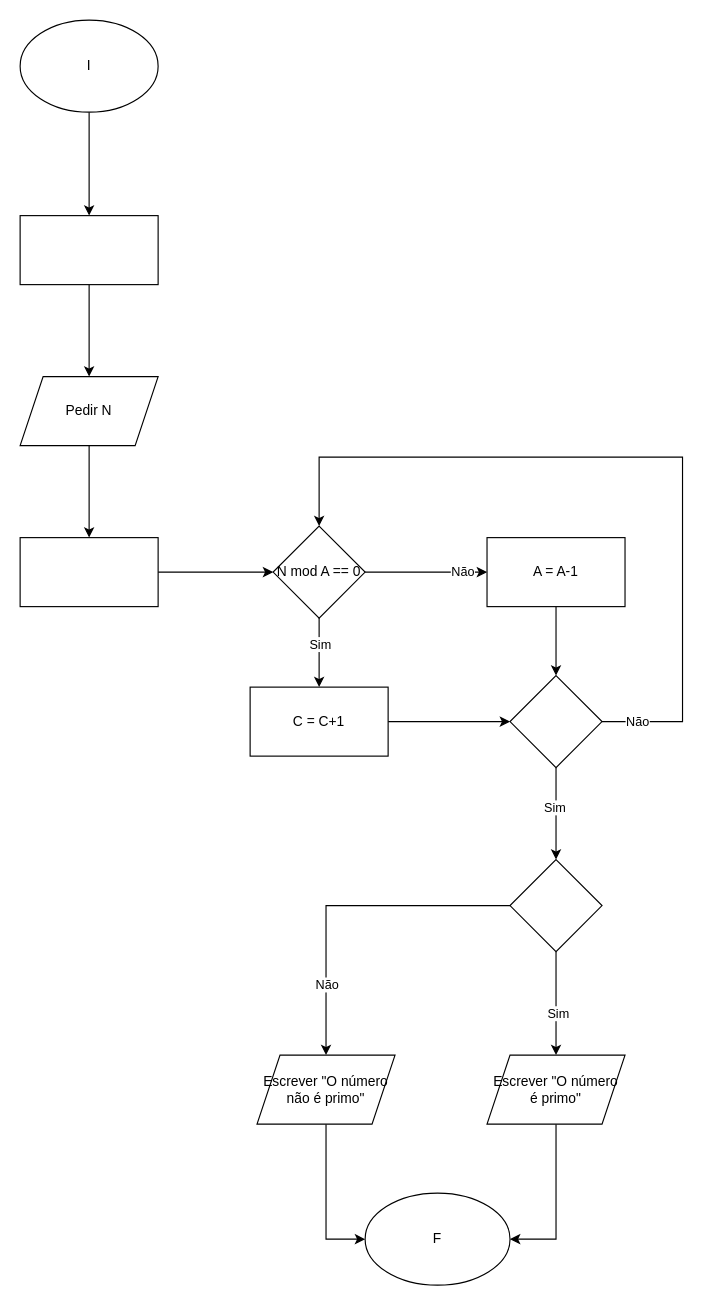
This 712x1305 diagram has some shape labels left out. The centre of each missing label's shape, as x and y in pixels:
"A = 0 C = 0" belongs at (x=88, y=249).
"A = N" belongs at (x=88, y=571).
"A == 0" belongs at (x=555, y=721).
"C == 2" belongs at (x=555, y=905).
